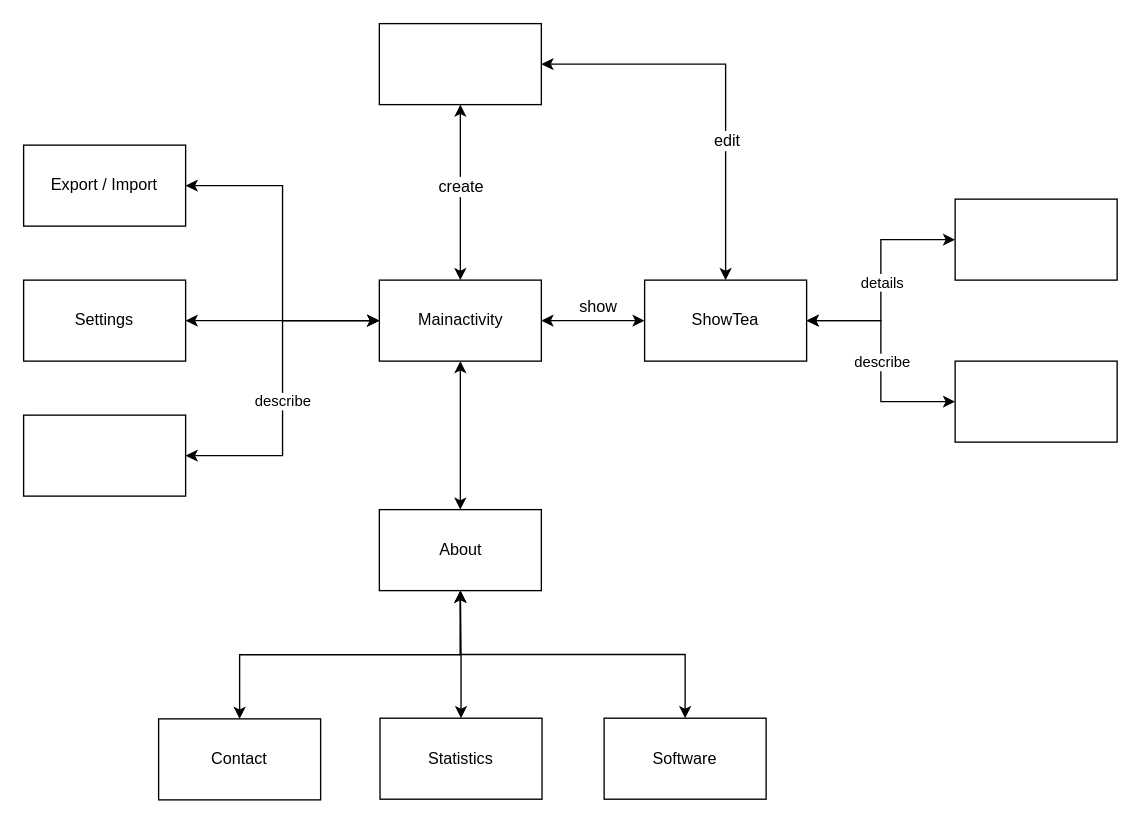
The diagram is 1141 pixels wide and 824 high, and some of its shapes have lost their labels. Each missing label, with the centre of its shape:
"Information" goes at point (1035, 239).
"NewTea" goes at point (459, 63).
"ShowTeaDescription" goes at point (1035, 401).
"ShowUpdates" goes at point (104, 455).
